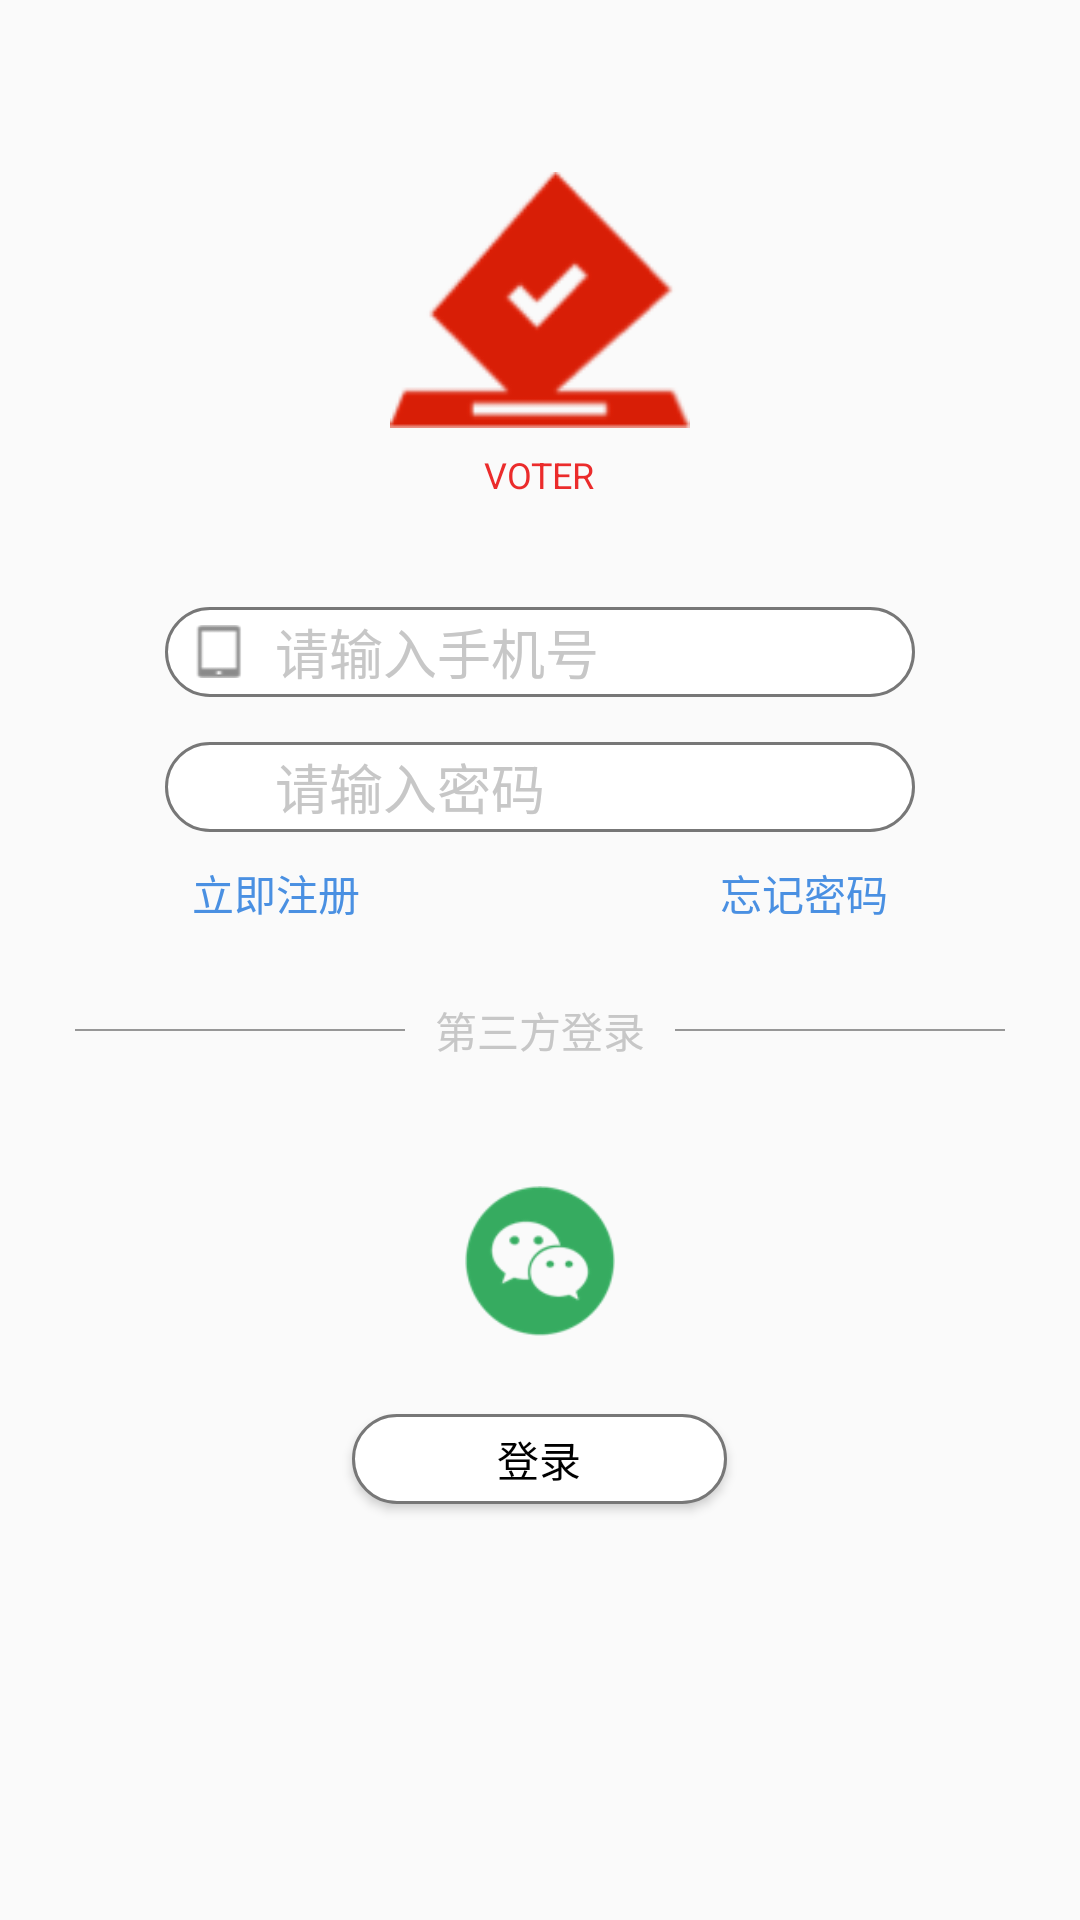

Icons on this 1080px×1920px Android screen, each with the point to tap as (x,y):
mobile: (219,651)
